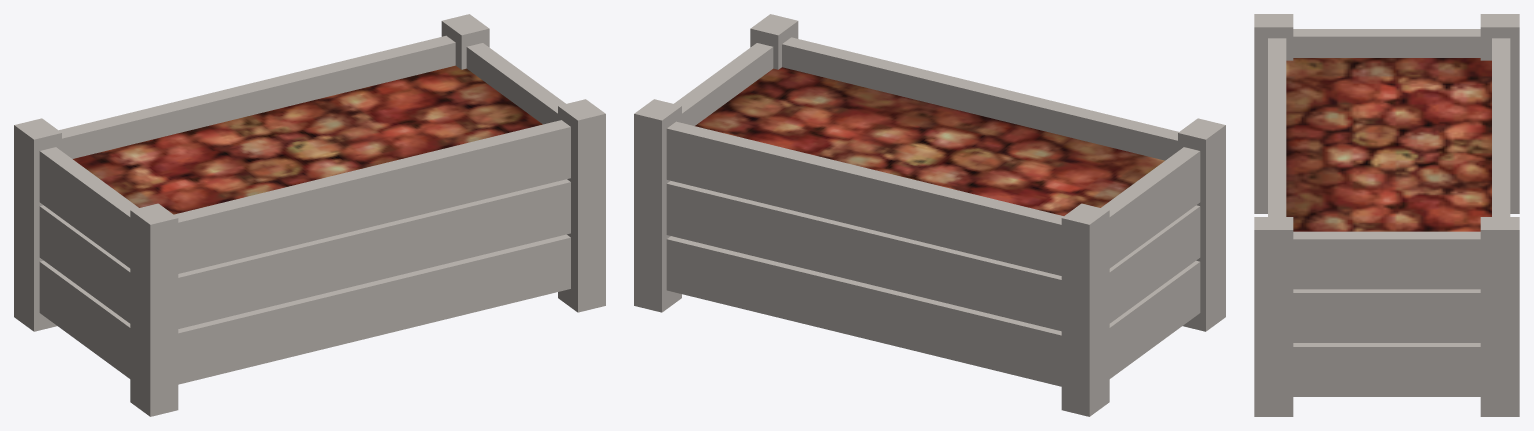
File: StoreBox_A_02.fbx
3 views of the same model, side by side, from view 1: azimuth 30°, elevation 25°; view 2: azimuth 150°, elevation 25°; view 3: azimuth 270°, elevation 25° (orthographic). The views are drawn at different scales.
Parts seen in each view (by area): view 1: StoreBox_A_02; view 2: StoreBox_A_02; view 3: StoreBox_A_02.
Boxes of the visible parts, box(x1,y1,x2,y2) form: StoreBox_A_02: box(14, 14, 605, 416); StoreBox_A_02: box(634, 14, 1225, 416); StoreBox_A_02: box(1254, 14, 1519, 416).
Size of the model in its own units: 119 by 47.93 by 61.63.
